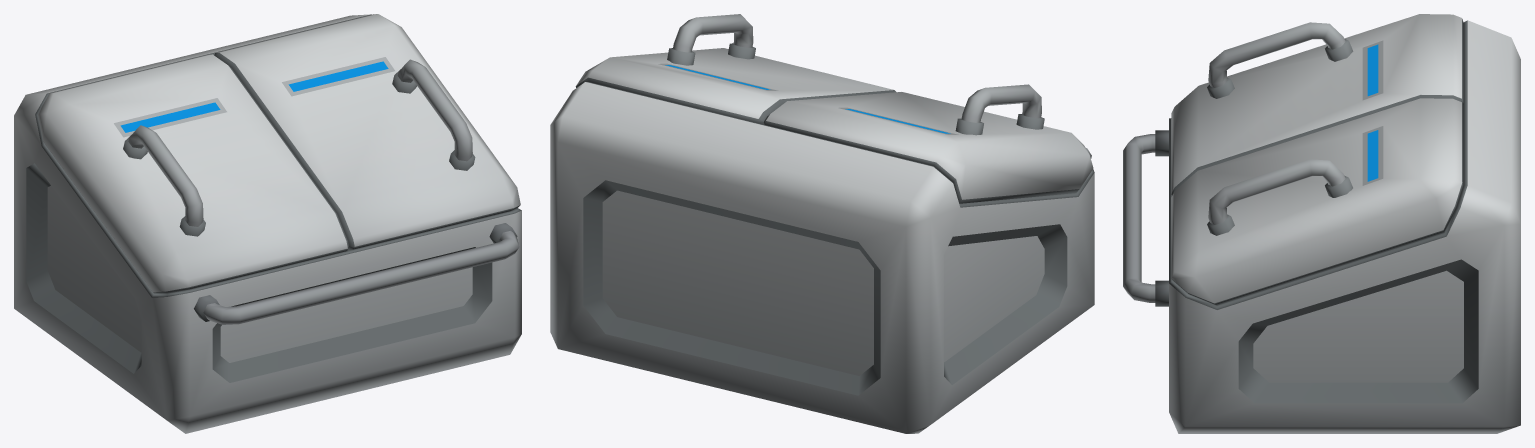
File: Crate_014.glb
3 views of the same model, side by side, from view 1: azimuth 30°, elevation 25°; view 2: azimuth 150°, elevation 25°; view 3: azimuth 270°, elevation 25° (orthographic). The views are drawn at different scales.
Parts seen in each view (by area): view 1: Crate_014; view 2: Crate_014; view 3: Crate_014.
Part boxes in pixels (x1=…): Crate_014: x1=14, y1=14, x2=521, y2=433; Crate_014: x1=550, y1=14, x2=1094, y2=433; Crate_014: x1=1123, y1=14, x2=1520, y2=433.
Size of the model in its own units: 1.04 by 0.7005 by 0.9692.
Materials: 2 (2 with a texture image).
